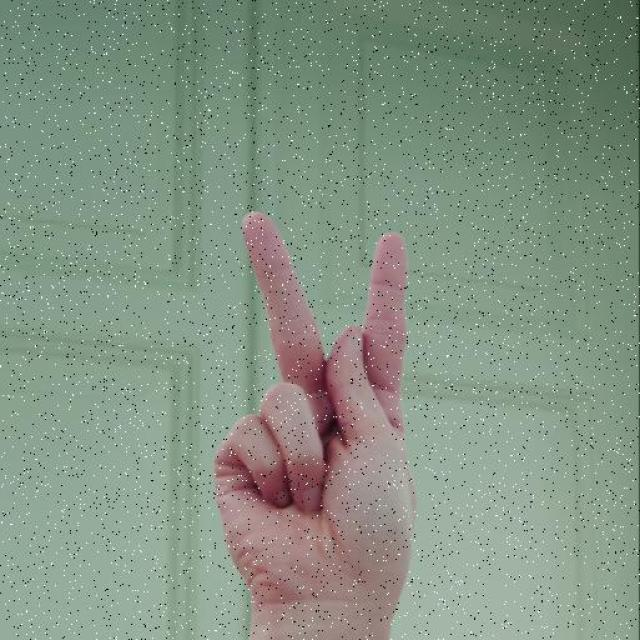K: (210, 207, 422, 614)
